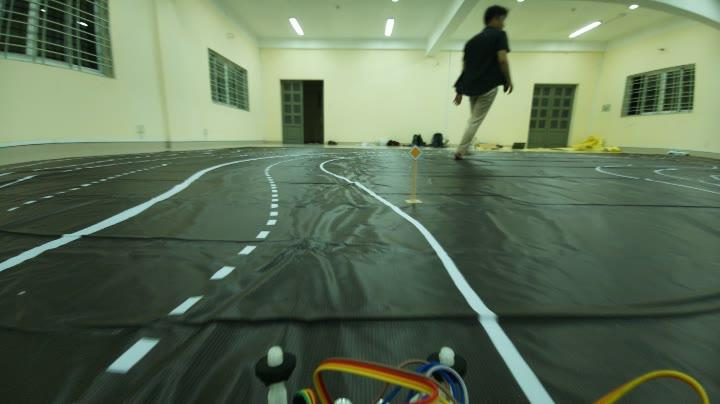priority: (403, 138, 426, 164)
